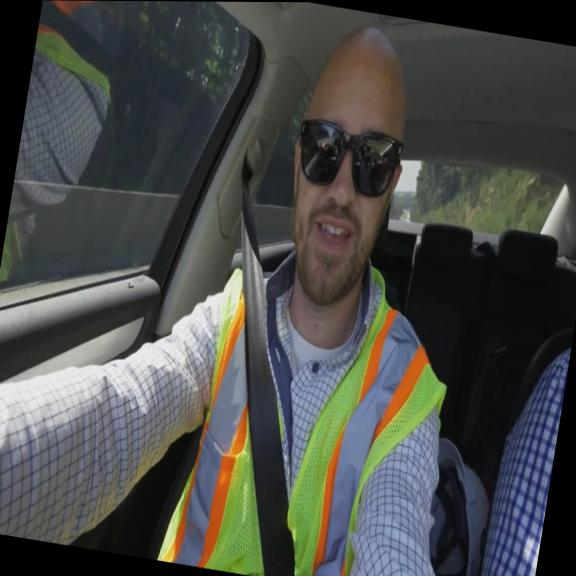safety_vest: (146, 238, 465, 576), (0, 0, 131, 296)
